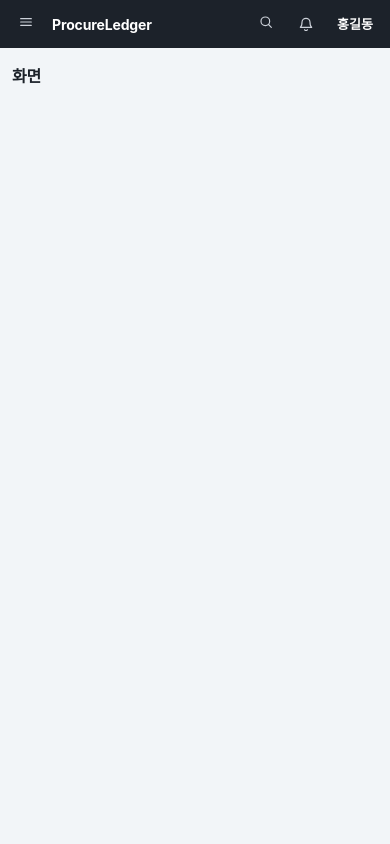
Test case: 760 이하: GNB 는 햄버거, SNB 는 서랍 › 서랍의 모듈 토글은 이동 없이 아래 하위 메뉴만 바꾼다
The width and height of the screenshot is (390, 844).
What coordinates should you click on to do the following:
click the button named "메뉴 열기"
I would click on:
 (26, 24)
Its box is 8,6 -> 44,42.
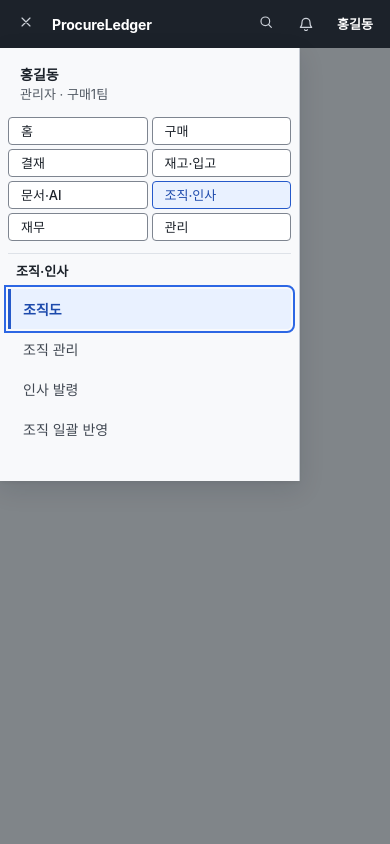
expect the button "조직·인사" is shown: met, box 152,180 -> 291,208
What coordinates should you click on to do the following:
click the button "관리"
I would click on:
 (221, 226)
Its box is 152,212 -> 291,240.
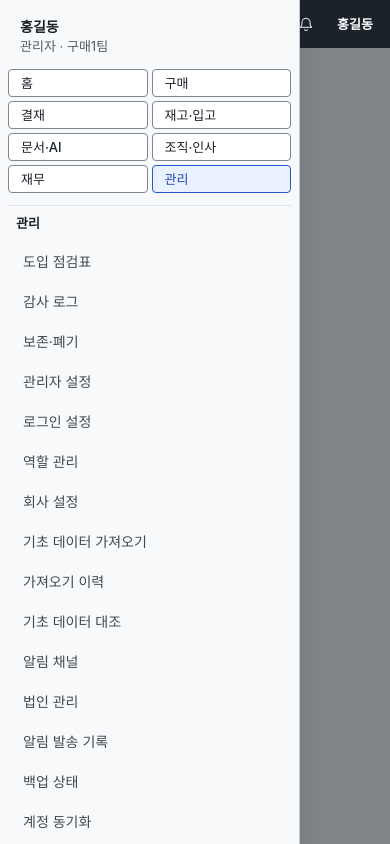
expect the link "감사 로그" is shown: met, box 23,292 -> 78,310
expect the link "조직도" is gone: met
